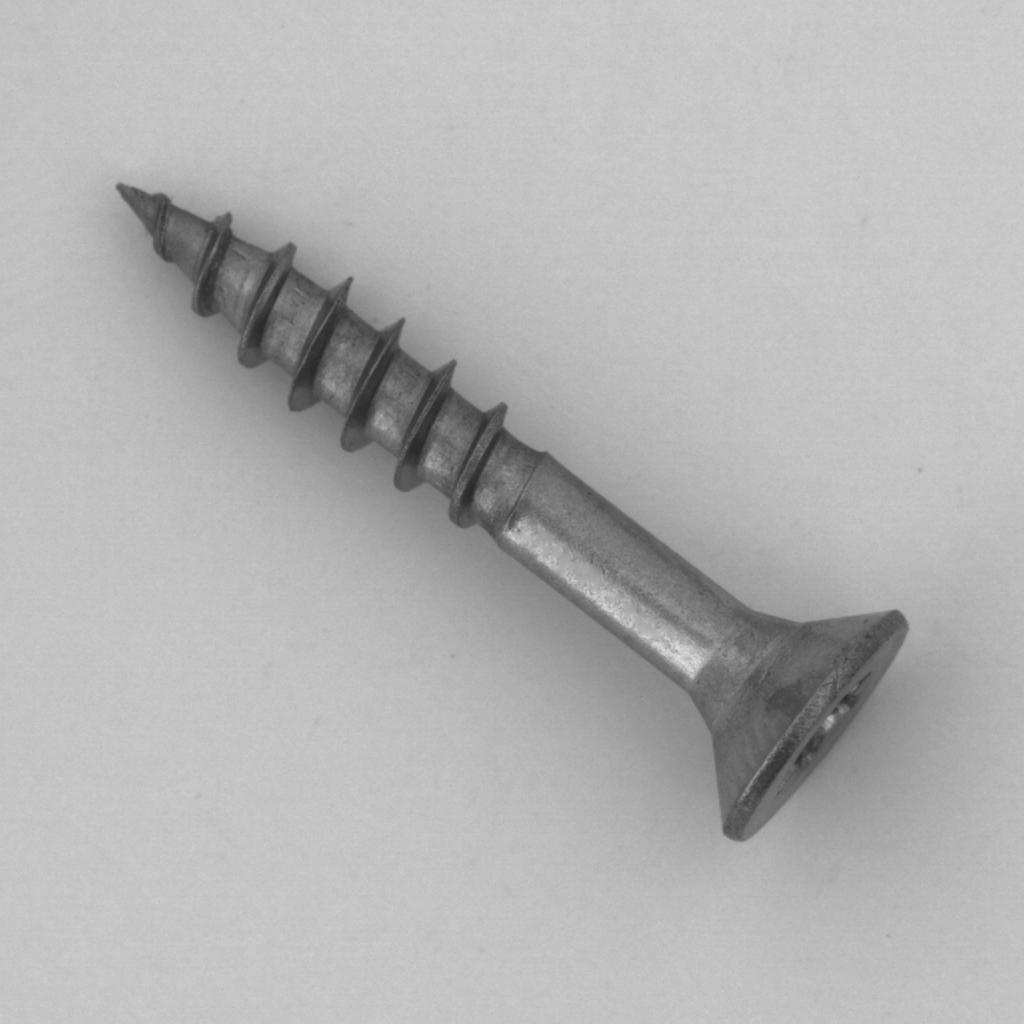good: (88, 154, 932, 851)
